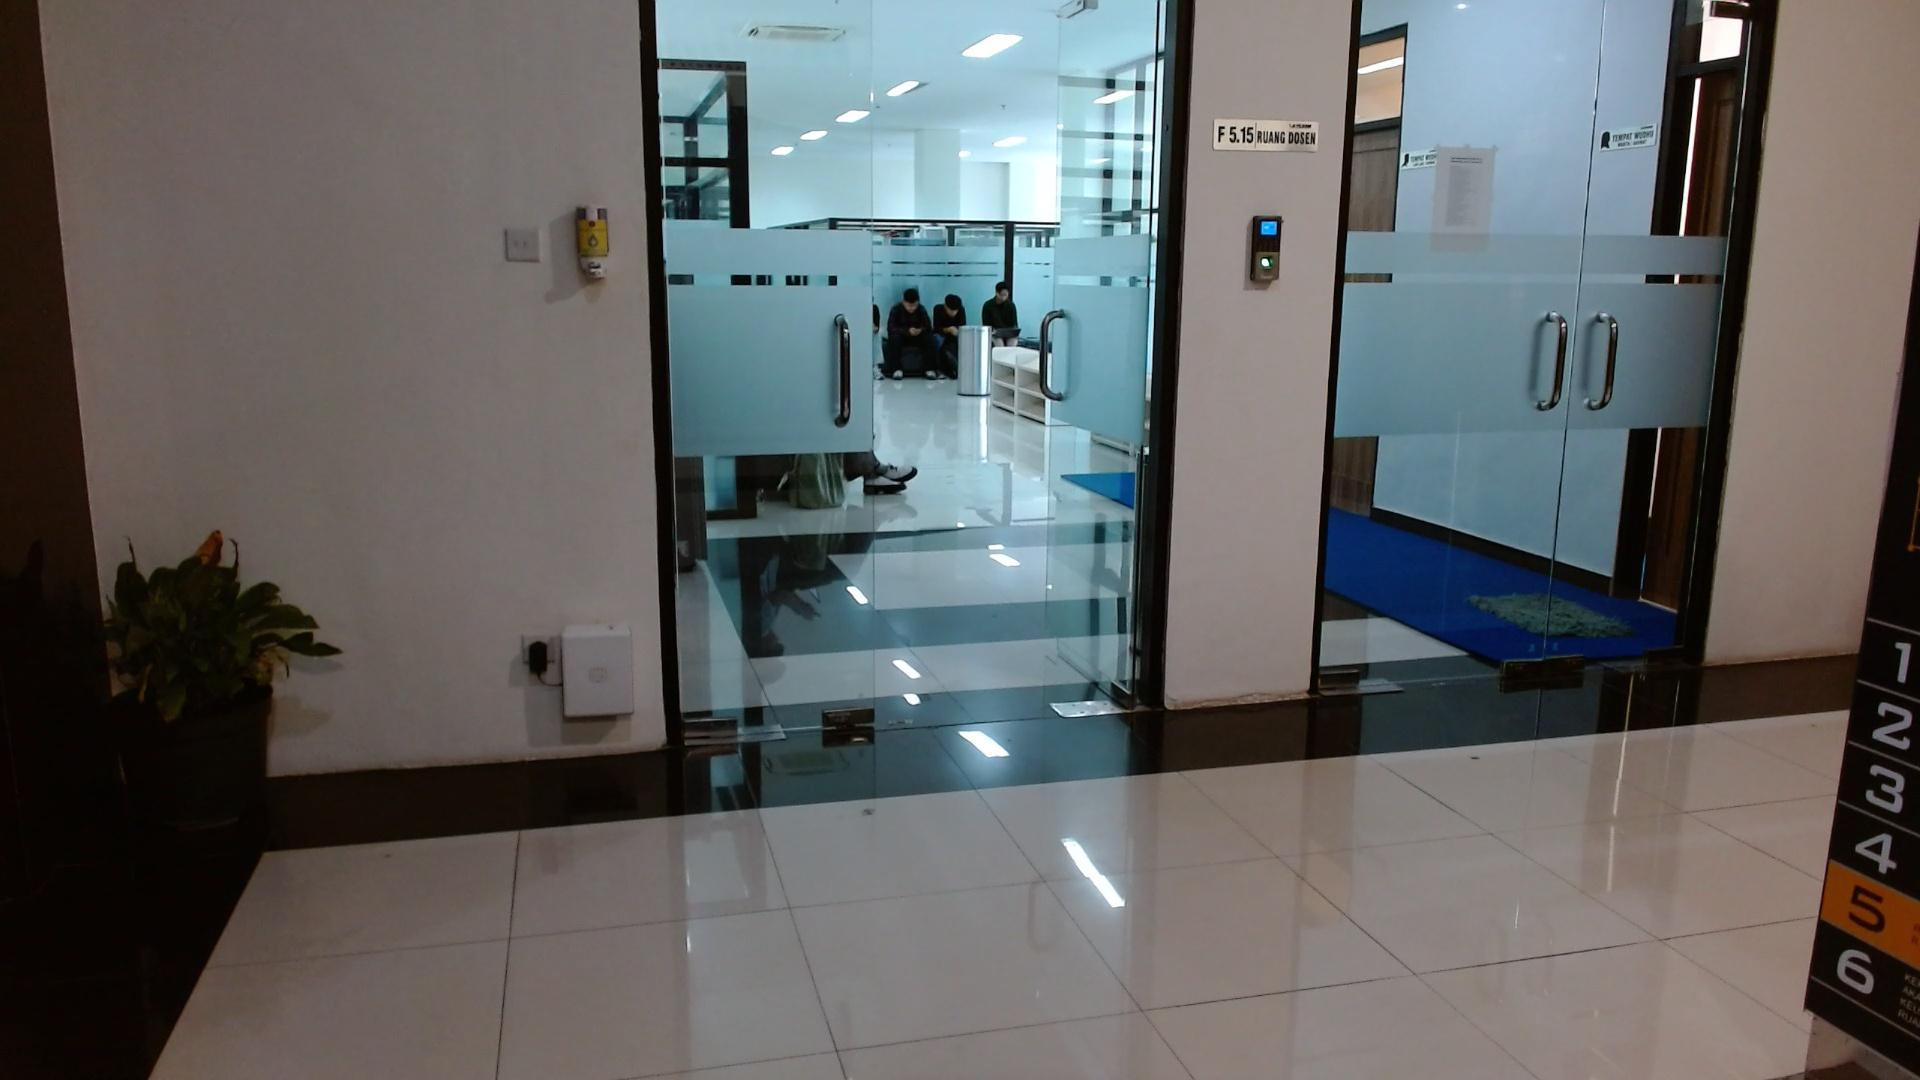plate: (1213, 119, 1320, 152)
